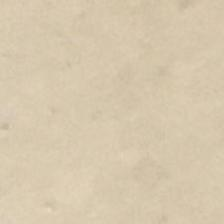Non_Crack: (35, 31, 224, 218)
